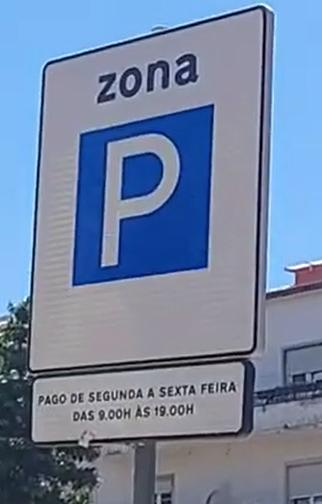zona de estacionamento autorizado: (22, 0, 294, 378)
